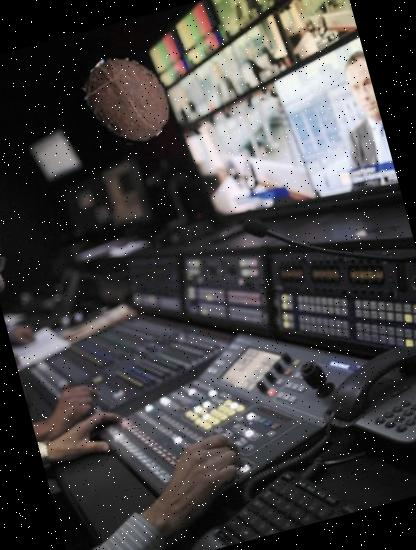Cocos: (69, 44, 184, 158)
